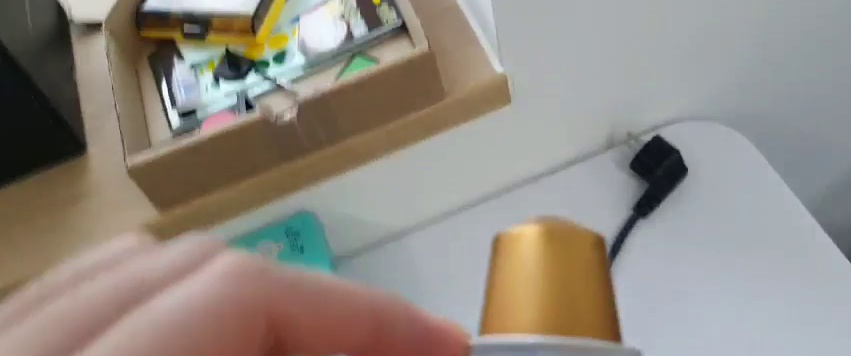capsule_8: (469, 214, 643, 356)
